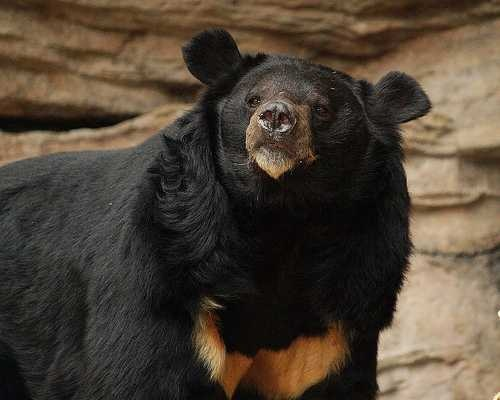bear: (226, 71, 354, 199), (177, 22, 305, 150), (305, 49, 433, 177)
